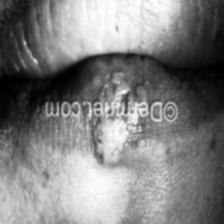Toxin: (82, 122, 168, 169), (84, 54, 150, 99)
